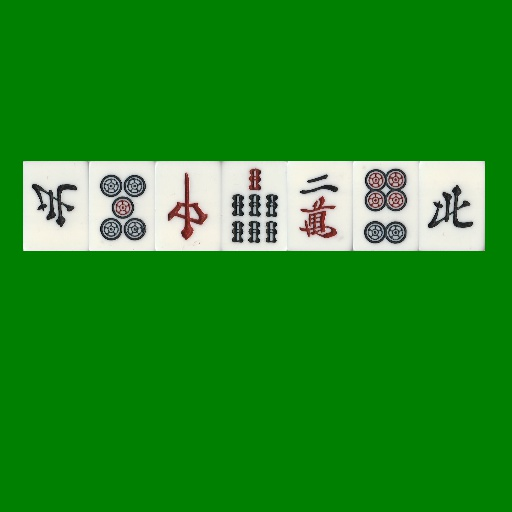2m: (287, 161, 353, 251)
5p: (89, 161, 155, 251)
6p: (353, 161, 419, 251)
7s: (221, 161, 287, 251)
north: (23, 161, 89, 251), (419, 161, 485, 251)
tyun: (155, 161, 221, 251)
